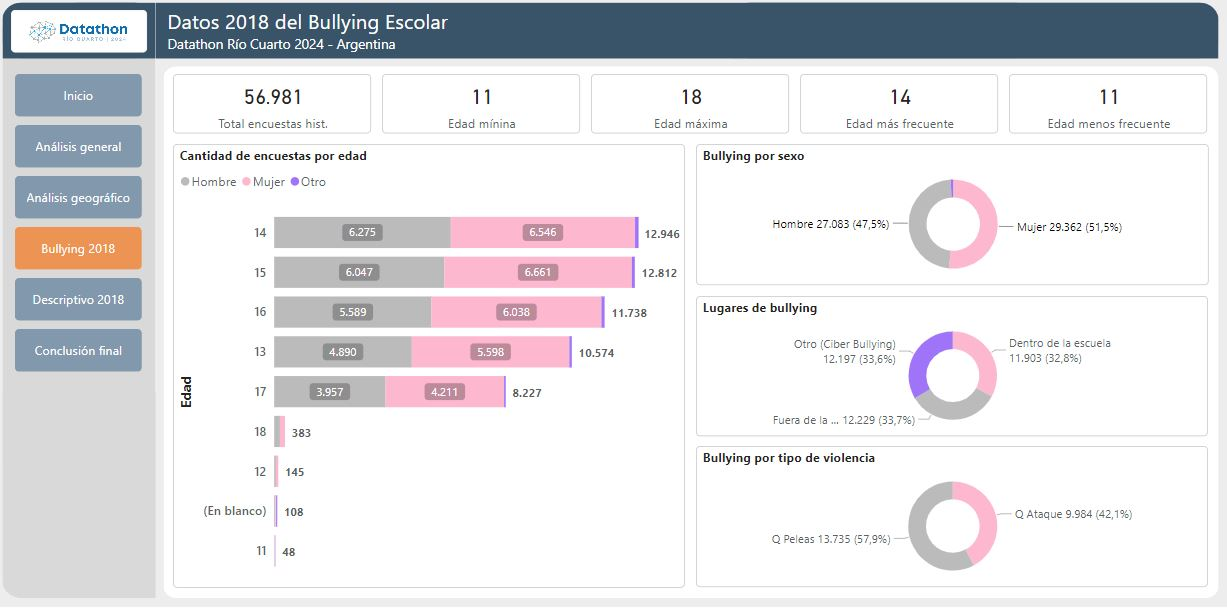

Layout of this report page (visuals, bound fields, positions):
{"tool":"powerbi","page":{"name":"Bullying 2018","canvas":[1450,720],"ordinal":6},"visuals":[{"type":"barChart","title":"Cantidad de encuestas por edad","fields":{"Category":["FACT_Bullying_2018.Age"],"Y":["Medidas.Q Denuncias historico"],"Series":["FACT_Bullying_2018.Sex"]},"box":[209.2,174.7,602,521.9],"z":0},{"type":"donutChart","title":"Lugares de bullying","fields":{"Y":["Medidas.Dentro de la escuela","Medidas.Fuera de la escuela","Medidas.Ciber Bullying"]},"box":[824,353.5,601.9,165.2],"z":1000},{"type":"donutChart","title":"Bullying por tipo de violencia","fields":{"Y":["Medidas.Q Ataque","Medidas.Q Peleas"]},"box":[824,530.8,601.9,166.3],"z":2000},{"type":"card","fields":{"Values":["Medidas.Q Denuncias historico"]},"box":[209,93,233,70],"z":3000},{"type":"donutChart","title":"Bullying por sexo","fields":{"Y":["Medidas.Q Encuestas historico"],"Category":["FACT_Bullying_2018.Sex"]},"box":[824,175.1,603,166.3],"z":4000},{"type":"card","fields":{"Values":["Min(FACT_Bullying_2018.Age)"]},"box":[455,93,233,70],"z":5000},{"type":"card","fields":{"Values":["Max(FACT_Bullying_2018.Age)"]},"box":[700.9,93,233,70],"z":6000},{"type":"card","fields":{"Values":["Medidas.Moda Edad historico"]},"box":[946.9,93,233,70],"z":7000},{"type":"card","fields":{"Values":["Medidas.Moda Edad historico menos freq"]},"box":[1192.8,93,233.1,70],"z":8000},{"type":"textbox","box":[197,9.8,1230,64.6],"z":9000},{"type":"image","box":[18.6,17.5,159.8,50.3],"z":10000},{"type":"pageNavigator","box":[23.2,92.9,149.8,350],"z":11000}]}

Visuals, with their boxes on the page's 1450x720 design canvas (x1, y1, x2, y2). These are canvas units, not pixel positions in the 1227x612 screenshot, which may show the page scaled, cropped or inside an application window:
"Cantidad de encuestas por edad" barChart: crop(209, 175, 811, 697)
"Lugares de bullying" donutChart: crop(824, 354, 1426, 519)
"Bullying por tipo de violencia" donutChart: crop(824, 531, 1426, 697)
card - Medidas.Q Denuncias historico: crop(209, 93, 442, 163)
"Bullying por sexo" donutChart: crop(824, 175, 1427, 341)
card - Min(FACT_Bullying_2018.Age): crop(455, 93, 688, 163)
card - Max(FACT_Bullying_2018.Age): crop(701, 93, 934, 163)
card - Medidas.Moda Edad historico: crop(947, 93, 1180, 163)
card - Medidas.Moda Edad historico menos freq: crop(1193, 93, 1426, 163)
textbox: crop(197, 10, 1427, 74)
image: crop(19, 18, 178, 68)
pageNavigator: crop(23, 93, 173, 443)
